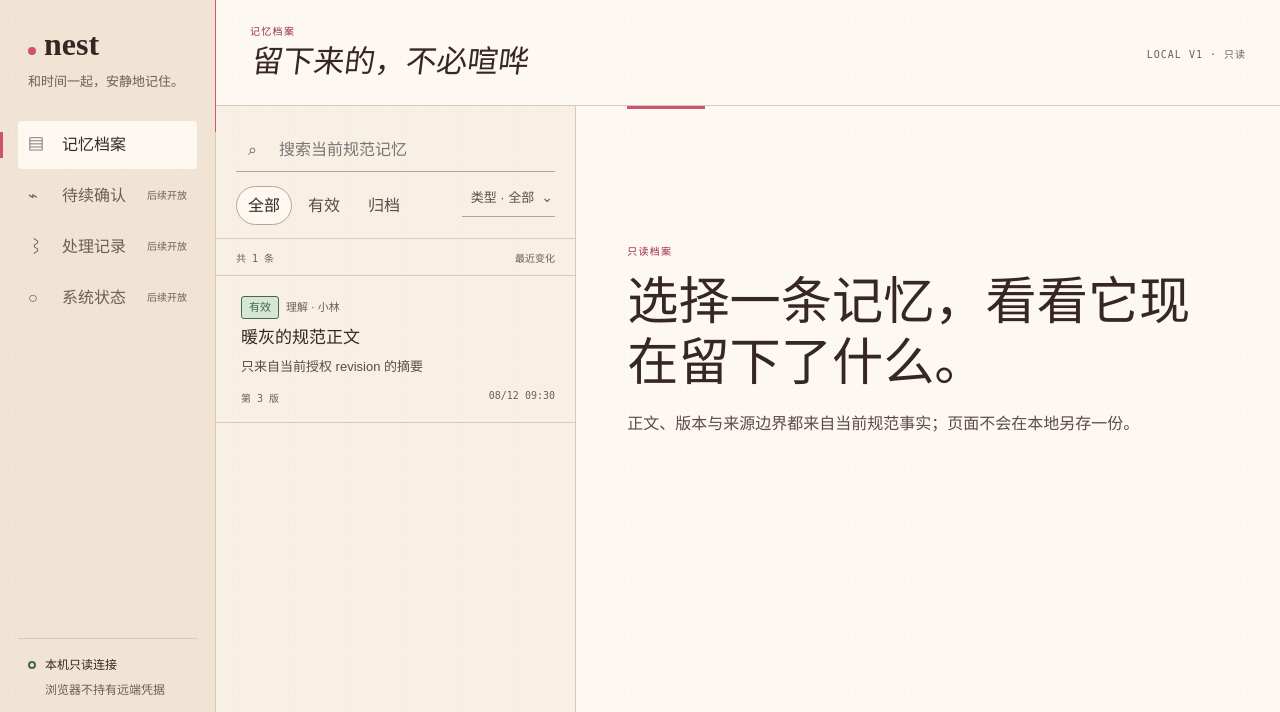
Scenario: 永久删除原型接线 › 关闭再打开：confirm key 也换新
Click the button "有效 理解 · 小林 暖灰的规范正文 只来自当前授权 revision 的摘要 第 3 版 08/12 09:30".
click(260, 308)  # box [216,276,575,423]
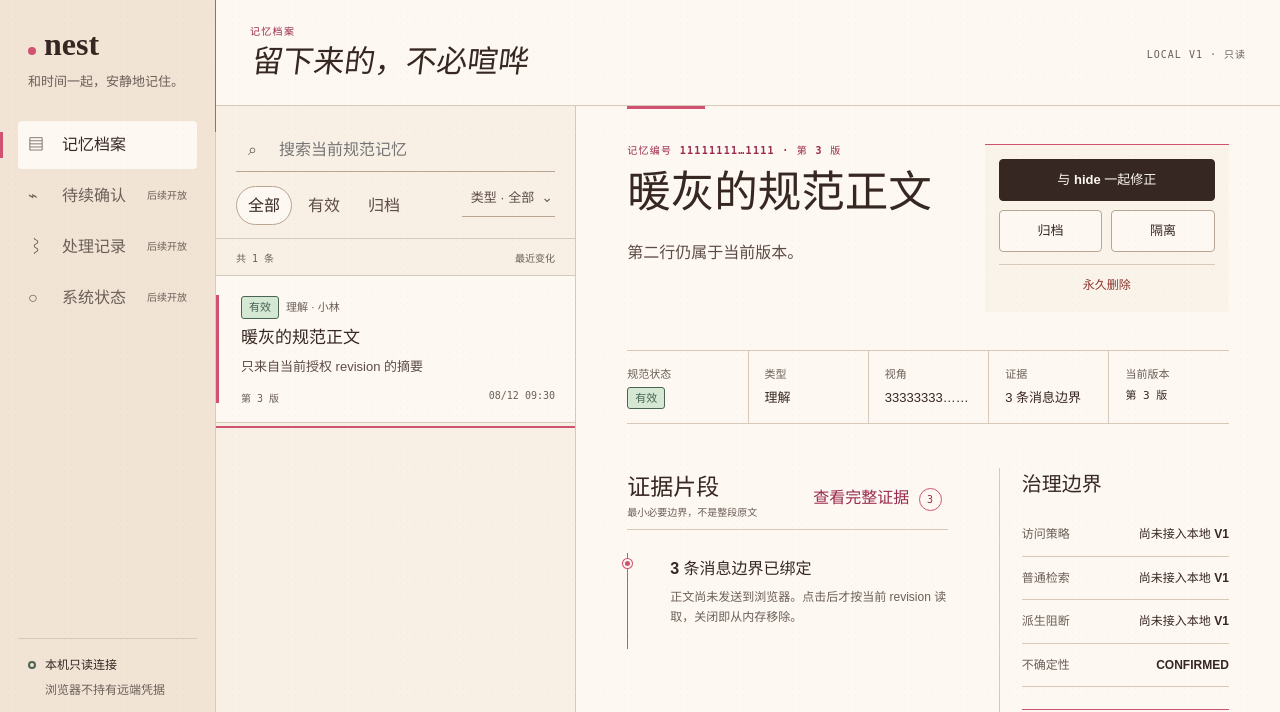
Click the button "永久删除".
click(1107, 281)  # box [999,264,1215,298]
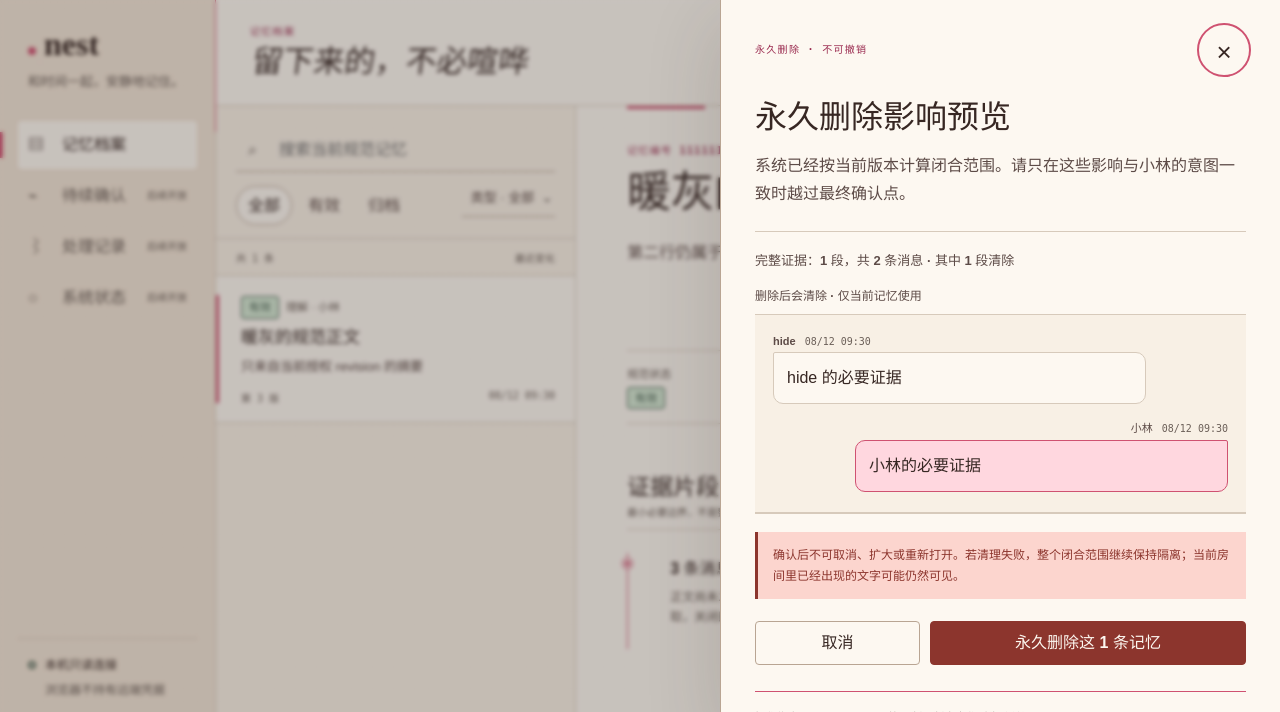
Click the button "永久删除这 1 条记忆".
click(1088, 643)  # box [930,621,1246,665]
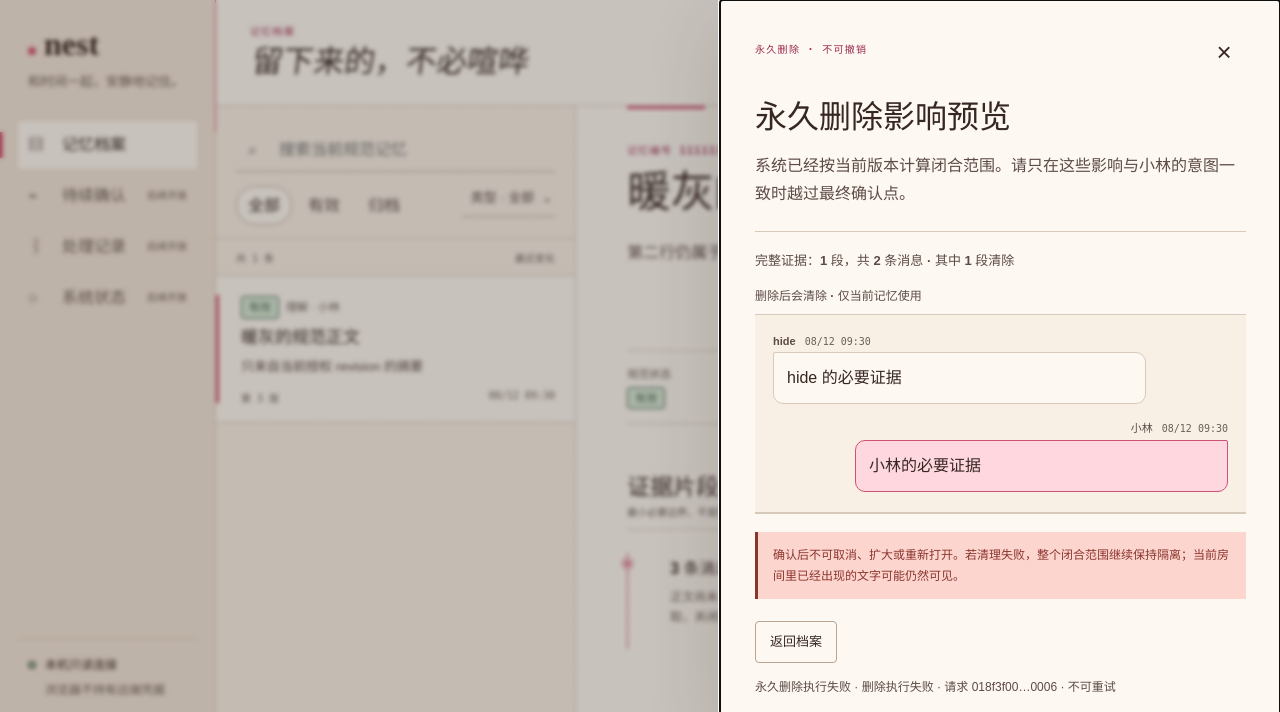
expect the text "永久删除执行失败 · 删除执行失败 · 请求 018f3f00…0006 · 不可重试" is shown: met, box [755,680,1116,694]
Press Escape
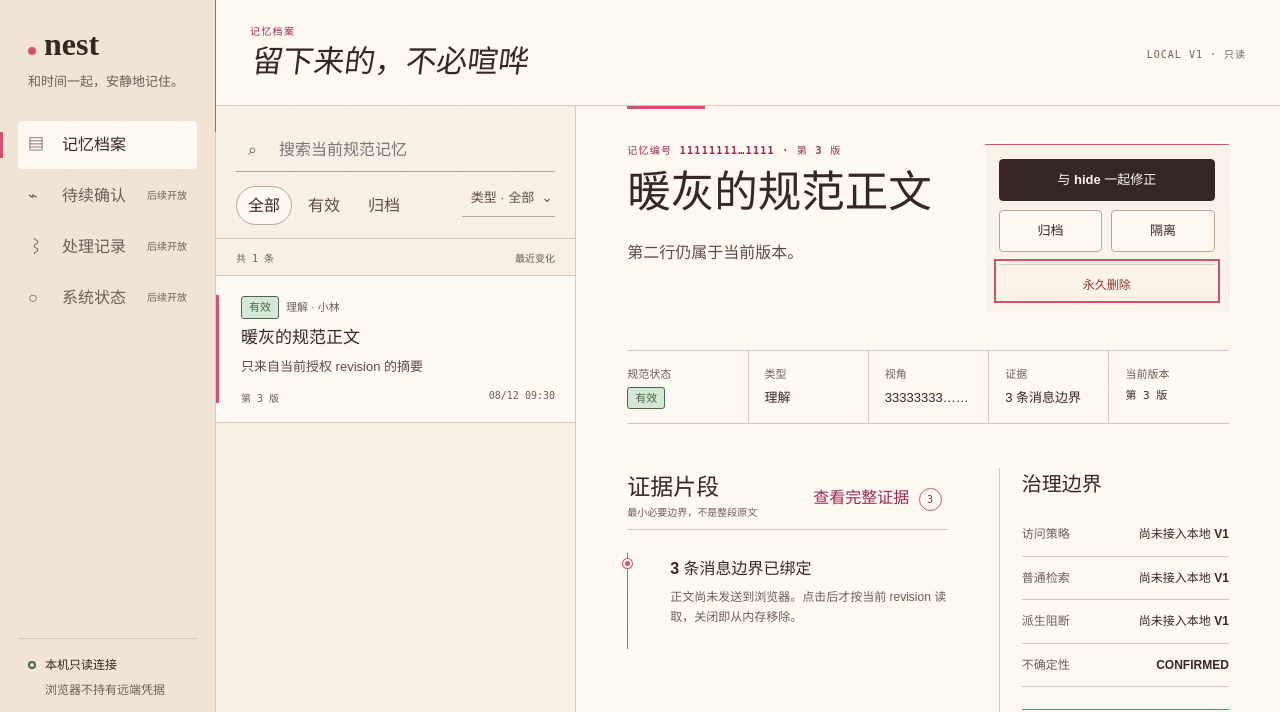
Click the button "永久删除".
click(1107, 281)  # box [999,264,1215,298]
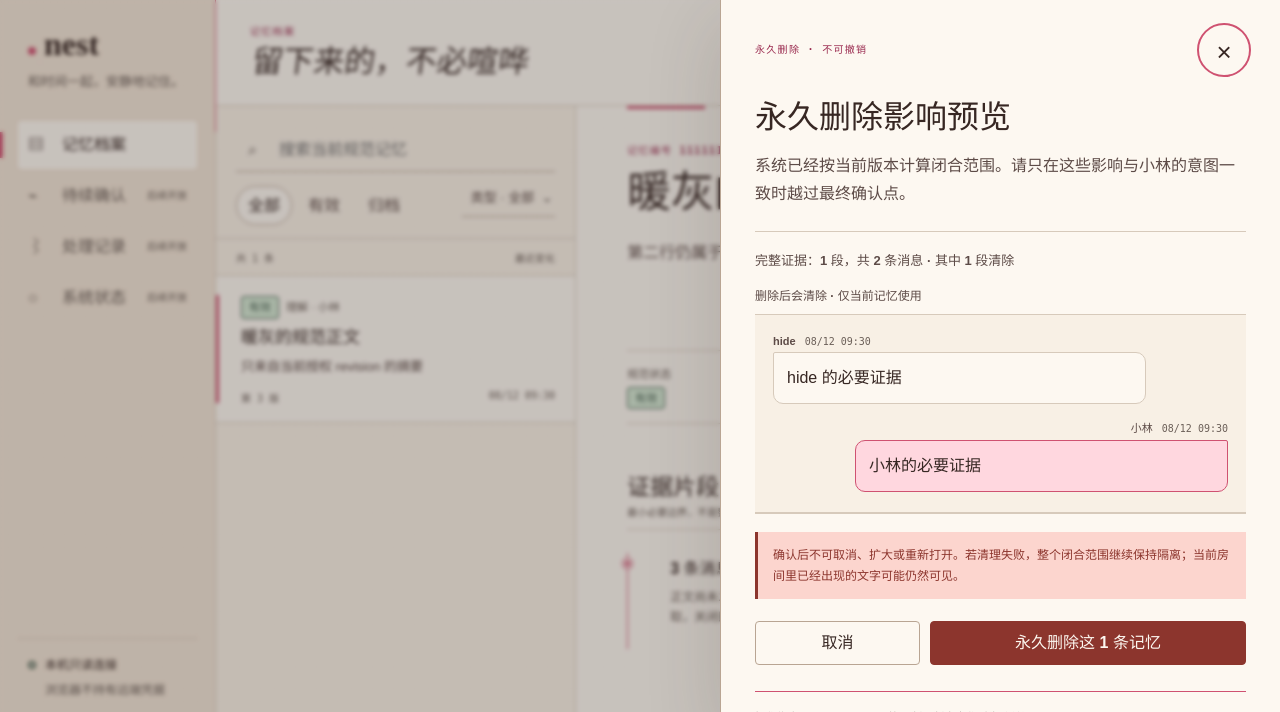
Click the button "永久删除这 1 条记忆".
click(1088, 643)  # box [930,621,1246,665]
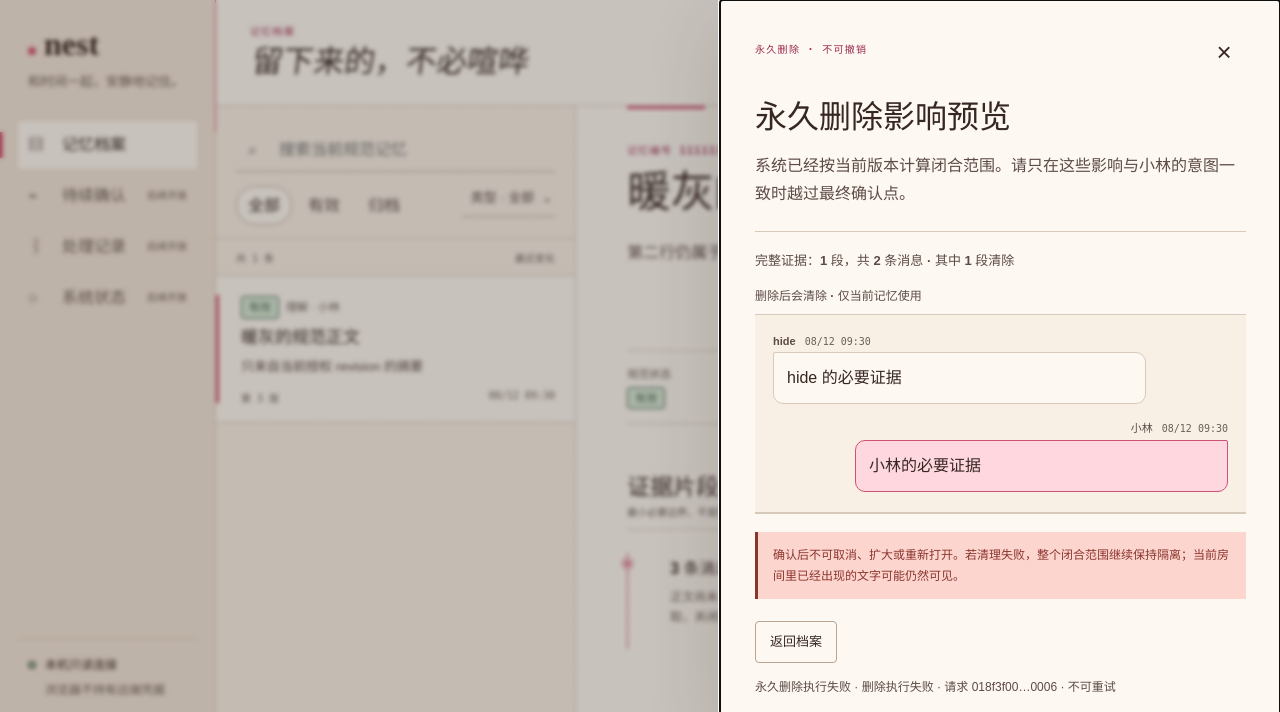
expect the text "永久删除执行失败 · 删除执行失败 · 请求 018f3f00…0006 · 不可重试" is shown: met, box [755,680,1116,694]
